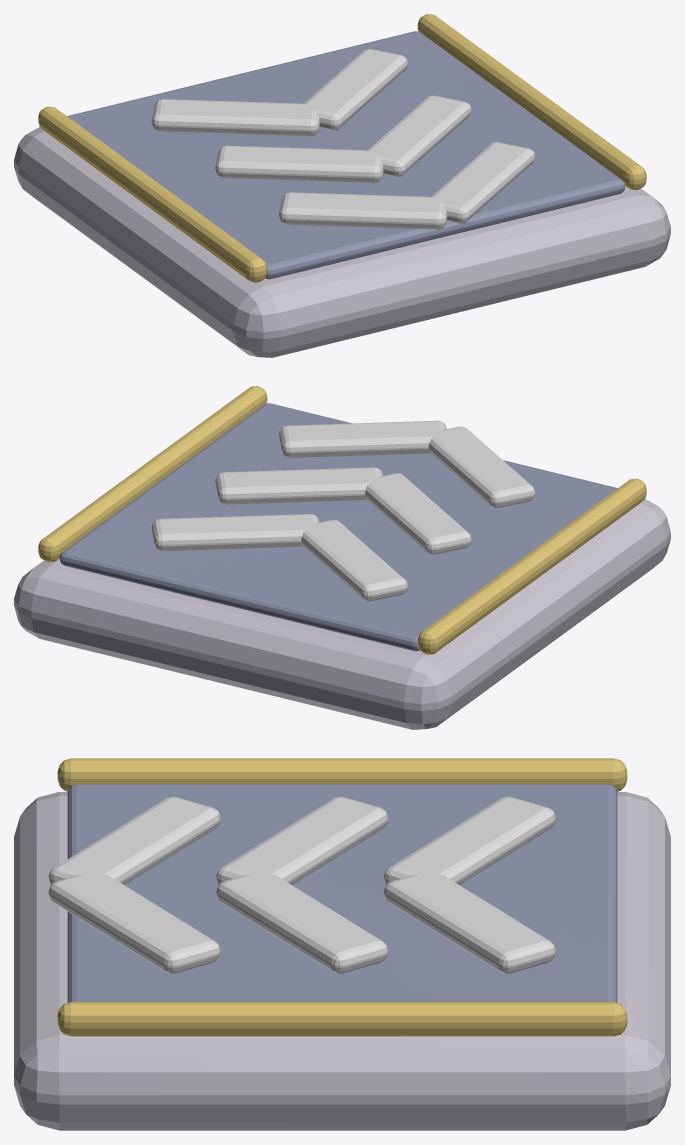
Rendered from gym_arrow_lite.glb.
3 renders of one model, top to bottom at view 1: azimuth 30°, elevation 25°; view 2: azimuth 150°, elevation 25°; view 3: azimuth 270°, elevation 25°, orthographic. The views are drawn at different scales.
Parts seen in each view (by area): view 1: Cube; view 2: Cube; view 3: Cube.
Boxes of the visible parts, x1,y1,x2,y2 form: Cube: (14, 14, 670, 357); Cube: (14, 386, 670, 729); Cube: (14, 758, 670, 1130).
Bounding box in the file's own units: 1.96 × 0.435 × 1.96.
